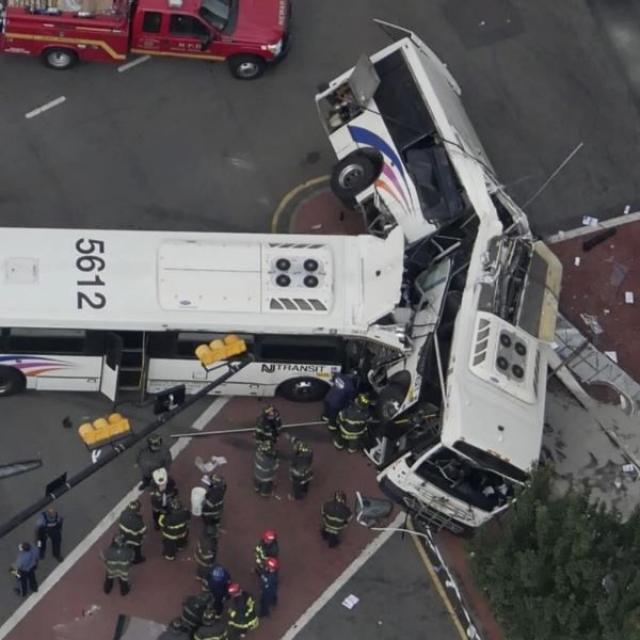traffic_incident: (199, 31, 540, 525)
